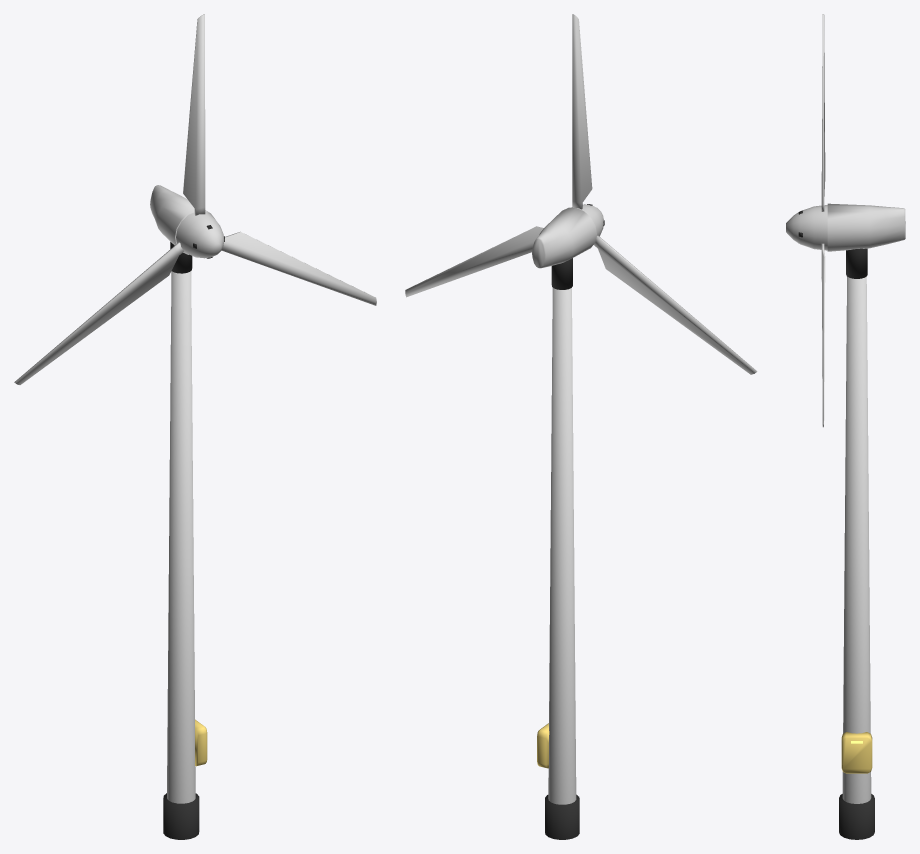
Rendered from windTurbineSmall.fbx.
The picture shows the model from 3 angles, left to right: view 1: azimuth 30°, elevation 25°; view 2: azimuth 150°, elevation 25°; view 3: azimuth 270°, elevation 25°; orthographic projection. The views are drawn at different scales.
Parts seen in each view (by area): view 1: Wind Turbine Small, Cylinder.011; view 2: Wind Turbine Small, Cylinder.011; view 3: Wind Turbine Small, Cylinder.011.
Part boxes in pixels (x1,y1,x2,y2): Wind Turbine Small: [150, 185, 215, 839]; Cylinder.011: [14, 14, 376, 384]; Wind Turbine Small: [532, 207, 596, 839]; Cylinder.011: [405, 14, 757, 374]; Wind Turbine Small: [827, 203, 905, 839]; Cylinder.011: [786, 14, 827, 427].
Bounding box in the file's own units: 470 × 1027 × 136.
